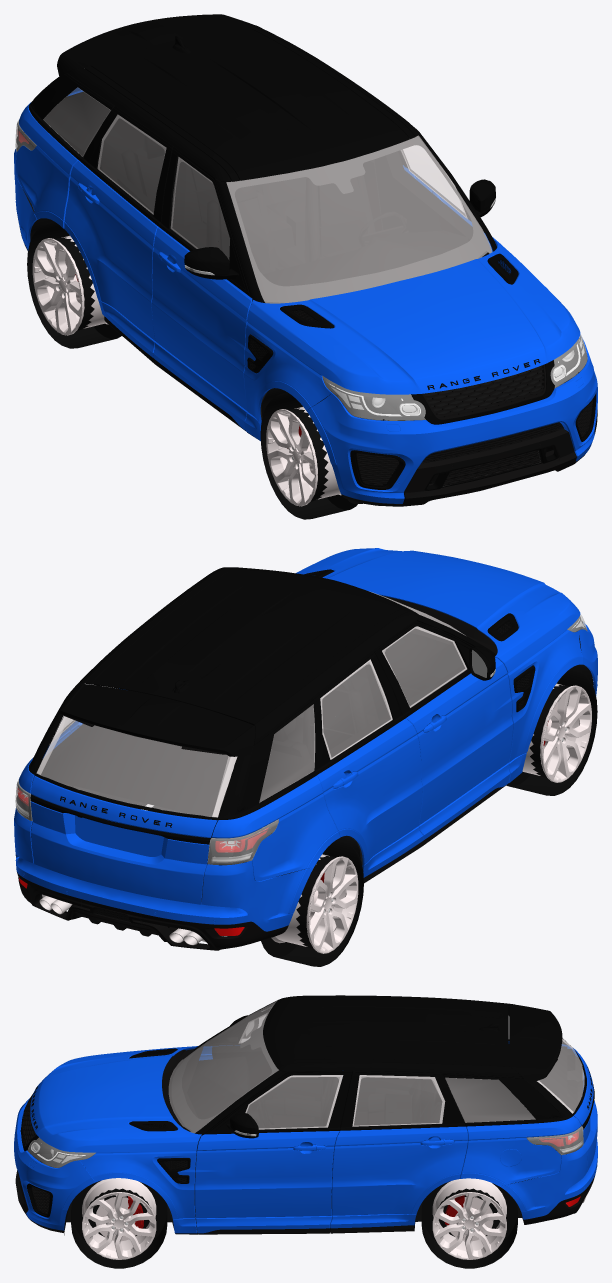
3 renders of one model, top to bottom at view 1: azimuth 30°, elevation 25°; view 2: azimuth 150°, elevation 25°; view 3: azimuth 270°, elevation 25°, orthographic. The views are drawn at different scales.
Parts seen in each view (by area): view 1: object.000_Color_B04_0, object.004_Material.002_0, object.011_black_shiny_plastic_0, gum_08, object.001_black_shiny_plastic_0, object.015_plastic_0, wheel.001, wheel.005, object.016_FrontColor_0, object.006_Material.004_0, object.003_chasis_0; view 2: object.000_Color_B04_0, object.011_black_shiny_plastic_0, object.004_Material.002_0, gum_08, object.001_black_shiny_plastic_0, wheel.005, object.015_plastic_0, wheel.001, object.006_Material.004_0, object.003_chasis_0, object.007_M_0020_Red_0, object.009_dark_rim_0; view 3: object.000_Color_B04_0, object.011_black_shiny_plastic_0, object.004_Material.002_0, gum_08, object.001_black_shiny_plastic_0, wheel.002, wheel.006, object.015_plastic_0, object.006_Material.004_0, object.016_FrontColor_0, object.003_chasis_0.
Boxes of the visible parts, x1=… form: object.000_Color_B04_0: x1=14, y1=87, x2=597, y2=503; object.004_Material.002_0: x1=43, y1=87, x2=492, y2=303; object.011_black_shiny_plastic_0: x1=57, y1=14, x2=419, y2=182; gum_08: x1=43, y1=95, x2=473, y2=301; object.001_black_shiny_plastic_0: x1=16, y1=25, x2=596, y2=490; object.015_plastic_0: x1=17, y1=69, x2=593, y2=506; wheel.001: x1=260, y1=392, x2=357, y2=519; wheel.005: x1=27, y1=221, x2=121, y2=348; object.016_FrontColor_0: x1=226, y1=136, x2=540, y2=486; object.006_Material.004_0: x1=15, y1=119, x2=587, y2=420; object.003_chasis_0: x1=23, y1=116, x2=572, y2=484; object.000_Color_B04_0: x1=14, y1=548, x2=597, y2=931; object.011_black_shiny_plastic_0: x1=57, y1=567, x2=419, y2=756; object.004_Material.002_0: x1=36, y1=591, x2=467, y2=817; gum_08: x1=29, y1=632, x2=470, y2=842; object.001_black_shiny_plastic_0: x1=16, y1=569, x2=586, y2=921; wheel.005: x1=261, y1=840, x2=363, y2=966; object.015_plastic_0: x1=17, y1=595, x2=591, y2=950; wheel.001: x1=506, y1=669, x2=597, y2=795; object.006_Material.004_0: x1=15, y1=614, x2=587, y2=865; object.003_chasis_0: x1=18, y1=621, x2=593, y2=920; object.007_M_0020_Red_0: x1=18, y1=788, x2=267, y2=935; object.009_dark_rim_0: x1=39, y1=894, x2=223, y2=945; object.000_Color_B04_0: x1=14, y1=1041, x2=597, y2=1233; object.011_black_shiny_plastic_0: x1=263, y1=995, x2=562, y2=1083; object.004_Material.002_0: x1=168, y1=1000, x2=584, y2=1133; gum_08: x1=187, y1=1044, x2=575, y2=1197; object.001_black_shiny_plastic_0: x1=20, y1=1000, x2=594, y2=1217; wheel.002: x1=71, y1=1178, x2=167, y2=1268; wheel.006: x1=421, y1=1178, x2=517, y2=1268; object.015_plastic_0: x1=15, y1=1047, x2=597, y2=1235; object.006_Material.004_0: x1=27, y1=1092, x2=583, y2=1167; object.016_FrontColor_0: x1=171, y1=1004, x2=278, y2=1133; object.003_chasis_0: x1=33, y1=1056, x2=582, y2=1231.
Size of the model in its own units: 0.9939 by 0.8061 by 2.18.
